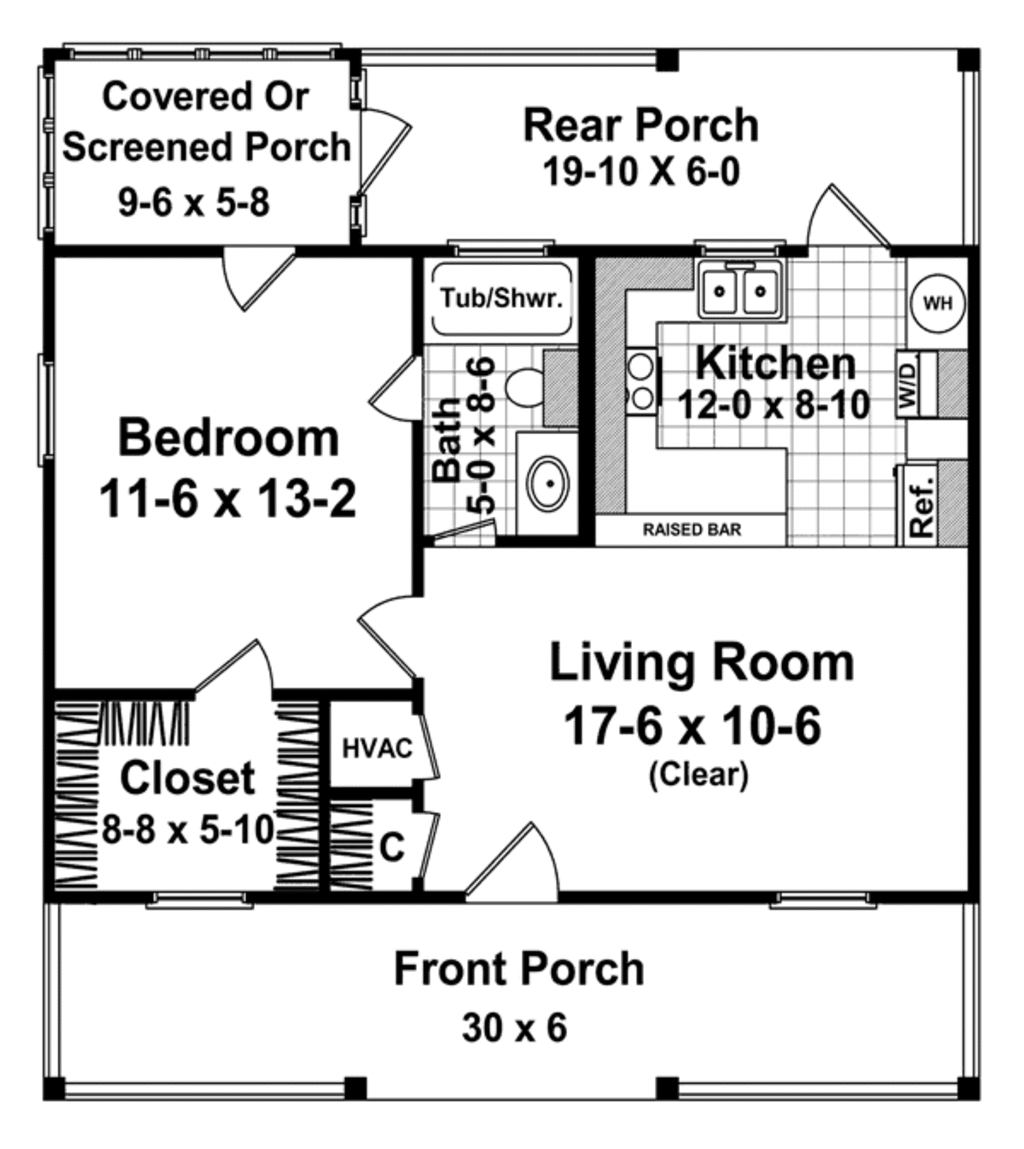door: (469, 805, 565, 904), (358, 599, 440, 687), (220, 240, 309, 317), (364, 346, 436, 427), (801, 186, 899, 245), (180, 638, 272, 700), (352, 107, 413, 193)
large_sink: (506, 344, 577, 427)
small_sink: (512, 429, 575, 534)
twin_sink: (693, 255, 799, 326)
window: (147, 883, 270, 915), (768, 889, 884, 911), (687, 234, 792, 258)
